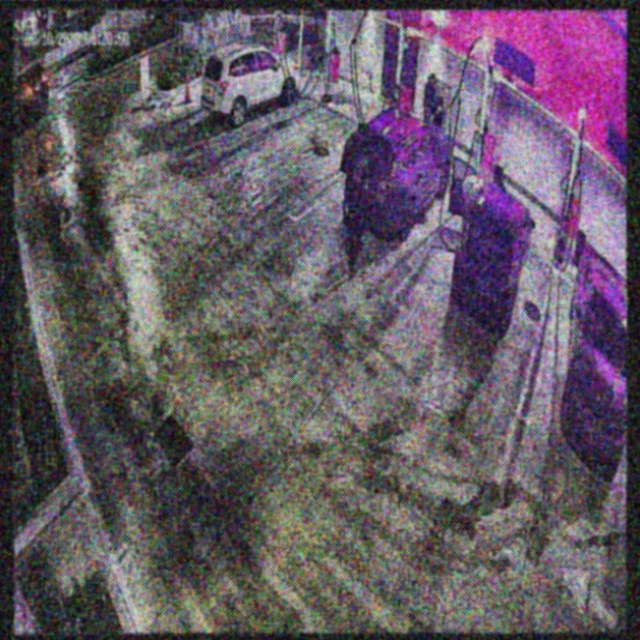Car: (342, 107, 450, 241), (453, 155, 533, 334)
